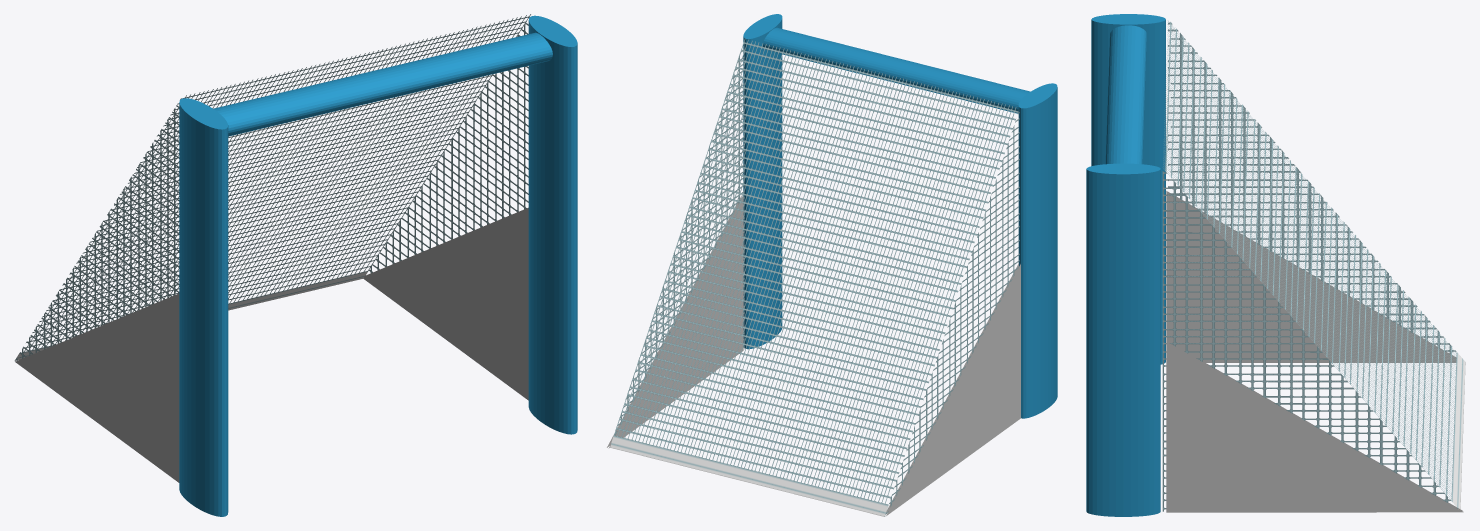
Rendered from rightgoal.obj.
The picture shows the model from 3 angles, left to right: view 1: azimuth 30°, elevation 25°; view 2: azimuth 150°, elevation 25°; view 3: azimuth 270°, elevation 25°; orthographic projection. The views are drawn at different scales.
Parts seen in each view (by area): view 1: Cylinder; view 2: Cylinder; view 3: Cylinder.
Boxes of the visible parts, x1,y1,x2,y2 form: Cylinder: [14, 14, 577, 516]; Cylinder: [607, 14, 1057, 516]; Cylinder: [1086, 14, 1465, 516].
Size of the model in its own units: 1 by 1 by 1.
